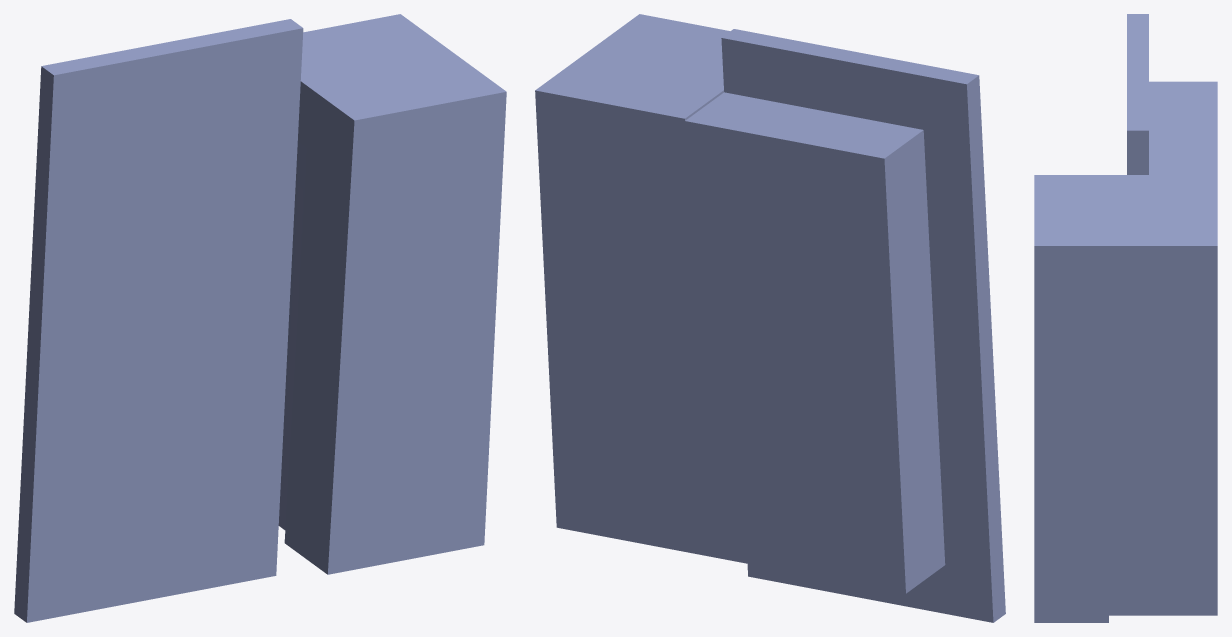
3 renders of one model, left to right at view 1: azimuth 30°, elevation 25°; view 2: azimuth 150°, elevation 25°; view 3: azimuth 270°, elevation 25°, orthographic. The views are drawn at different scales.
Visible parts, largest first — view 1: EW1A; view 2: EW1A; view 3: EW1A.
Part boxes in pixels (left/top/right/bottom): EW1A: left=14, top=14, right=506, bottom=622; EW1A: left=535, top=14, right=1005, bottom=622; EW1A: left=1034, top=14, right=1217, bottom=622.
Size of the model in its own units: 20.06 by 24.95 by 8.66.
